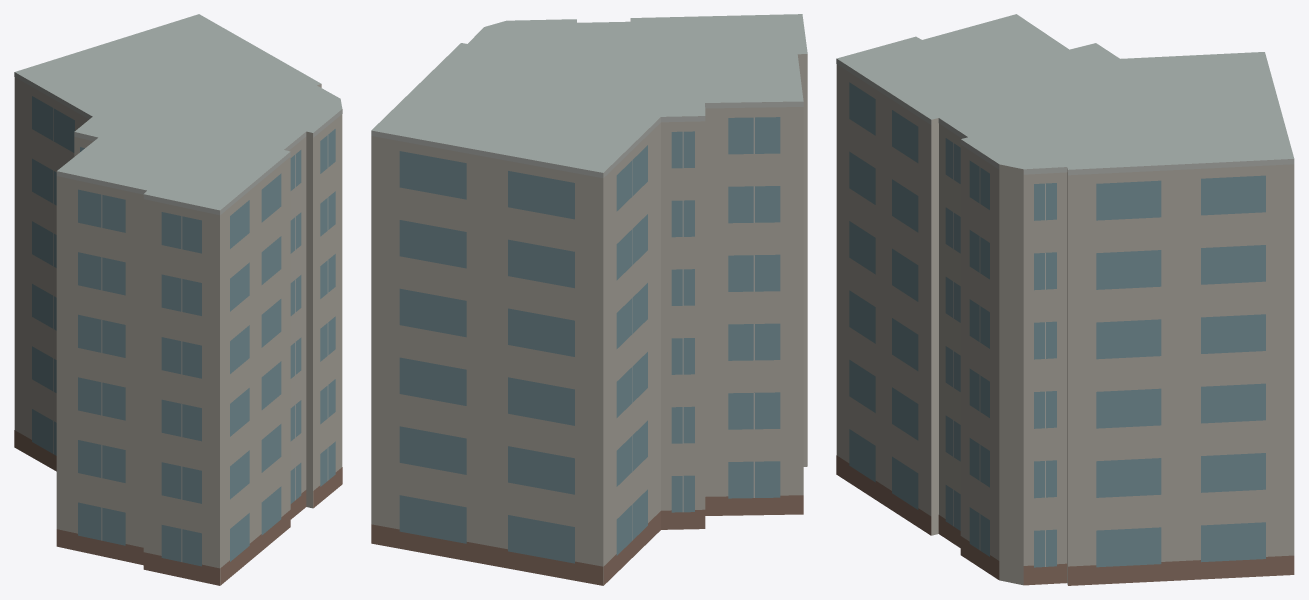
The model's file is survey-upis-32971566.glb.
The picture shows the model from 3 angles, left to right: view 1: azimuth 30°, elevation 25°; view 2: azimuth 150°, elevation 25°; view 3: azimuth 270°, elevation 25°; orthographic projection. The views are drawn at different scales.
Parts seen in each view (by area): view 1: survey-upis-32971566.tmp; view 2: survey-upis-32971566.tmp; view 3: survey-upis-32971566.tmp.
Part boxes in pixels (<box>): survey-upis-32971566.tmp: <box>14,14,342,585</box>; survey-upis-32971566.tmp: <box>371,14,807,585</box>; survey-upis-32971566.tmp: <box>836,14,1294,585</box>.
Bounding box in the file's own units: 14.95 × 18.6 × 18.56.
